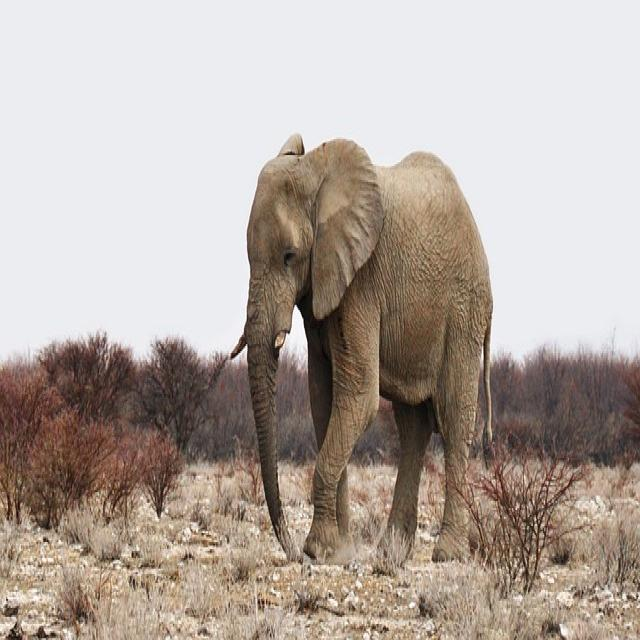elephant: (235, 134, 492, 558)
